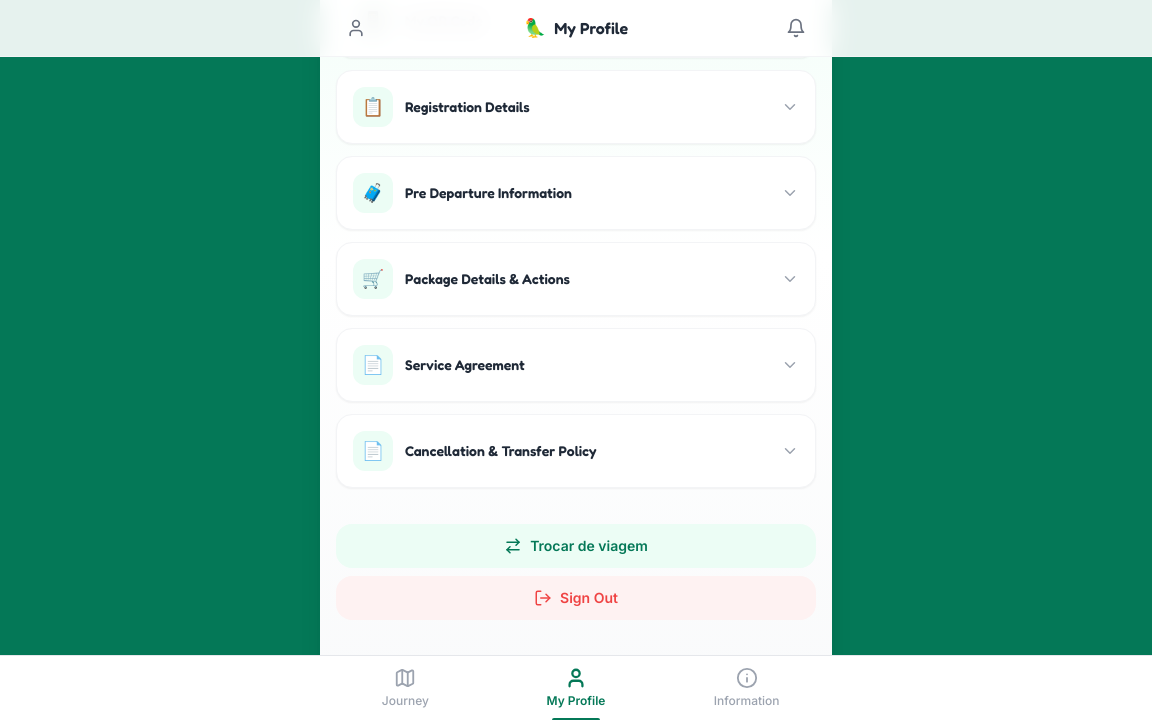
Scenario: ProfileScreen › cancelling the switcher returns to the exact previous session untouched
This screenshot has width=1152, height=720.
(page scrolled)
Click the button "Trocar de viagem" at (576, 546), box [336,524,816,568]
(page scrolled)
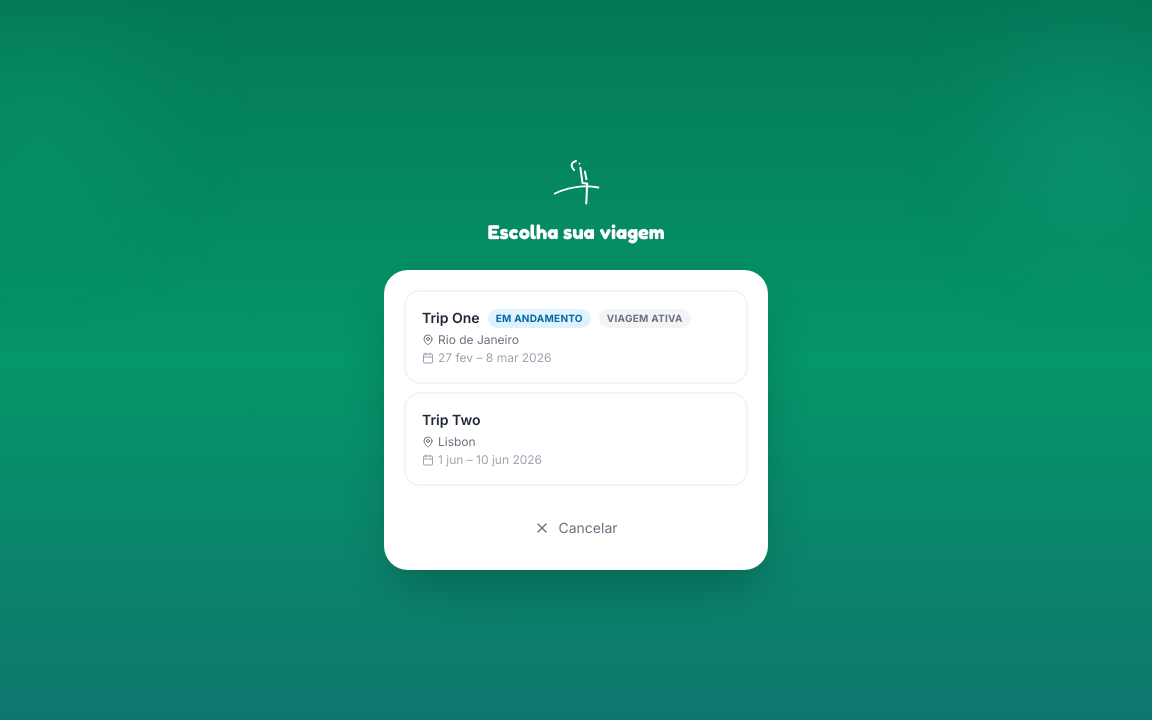
Expected: the heading "Escolha sua viagem" is shown, [487,218,665,246]
Click the button "Cancelar" at (576, 528), box [404,506,748,550]
(page scrolled)
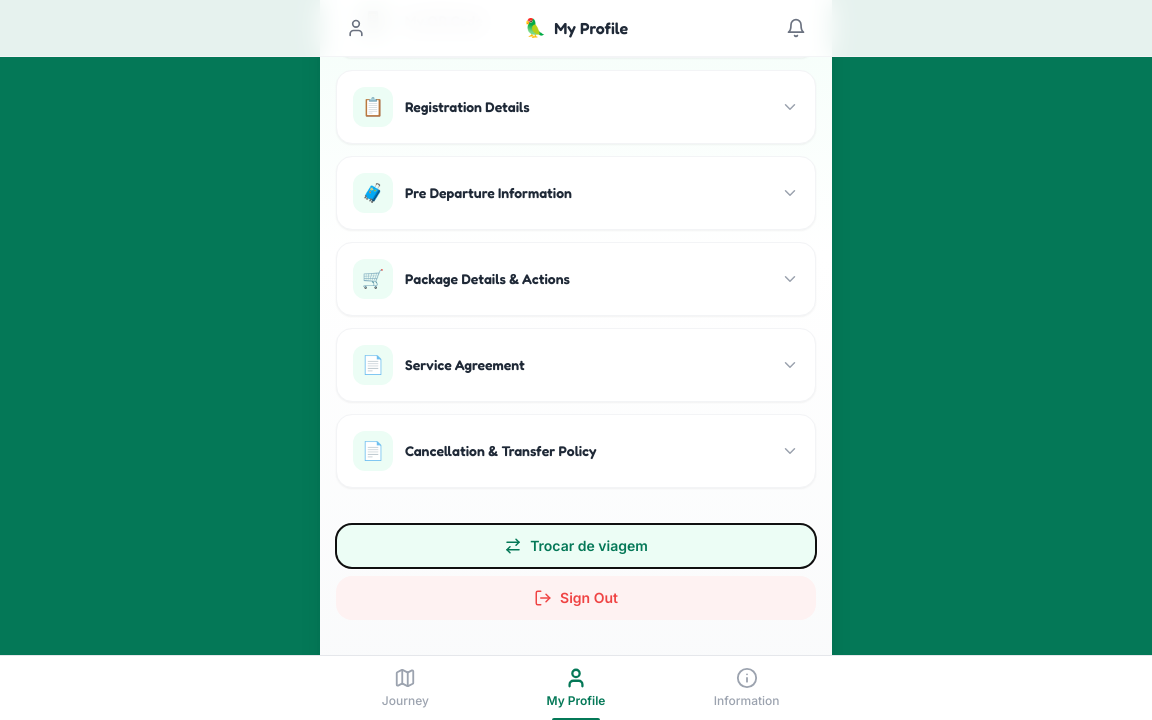
Expected: the heading "My Profile" is shown, [554,16,628,40]
Expected: the heading "Escolha sua viagem" is gone
